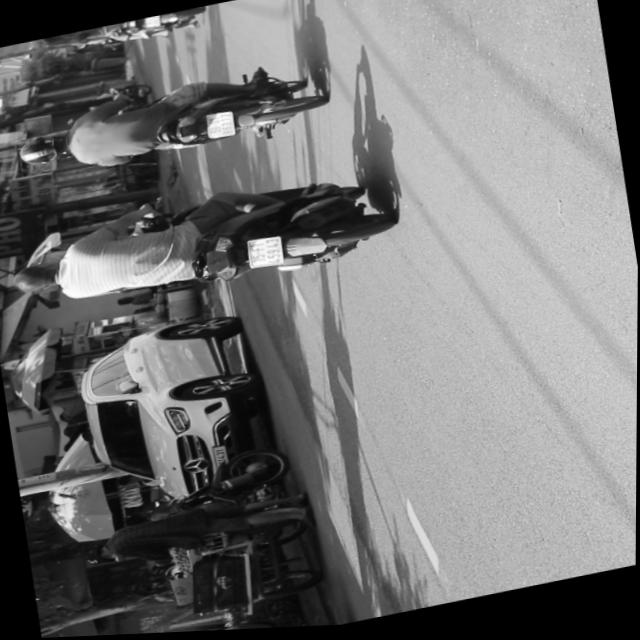helmet: (17, 132, 71, 169)
licenseplate: (1, 159, 400, 331), (10, 56, 327, 192)
motorcyclist: (10, 260, 63, 297)
nohelmet: (246, 237, 284, 271), (206, 112, 235, 141)
